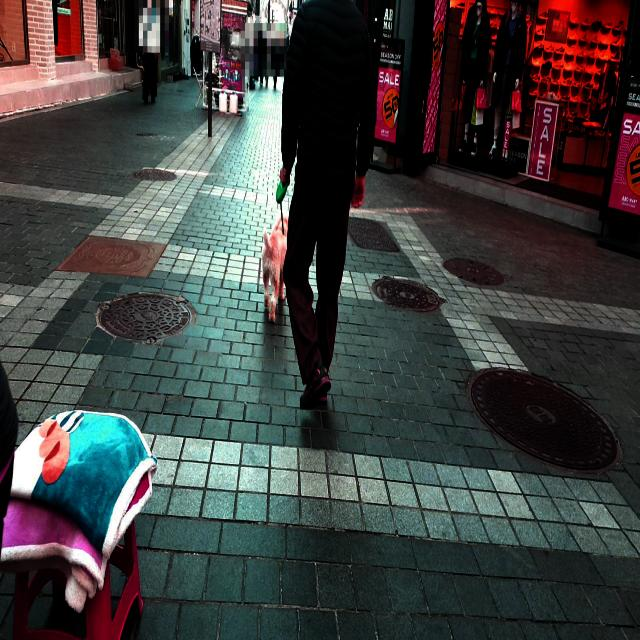Leashed_Dog: (262, 166, 332, 324)
